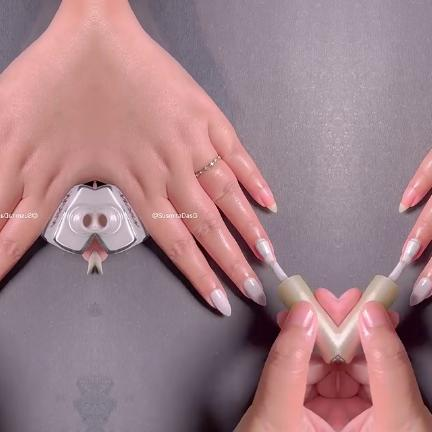Nail: (242, 277, 266, 306), (408, 277, 432, 306), (209, 288, 230, 316), (259, 188, 276, 213), (398, 188, 415, 213), (94, 249, 102, 275), (86, 249, 94, 275)
